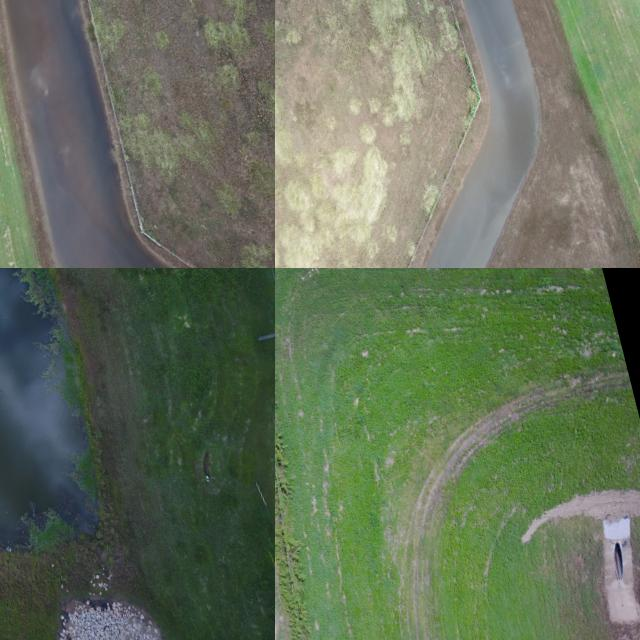fire: (4, 0, 170, 268), (425, 0, 539, 268), (0, 268, 88, 547)
